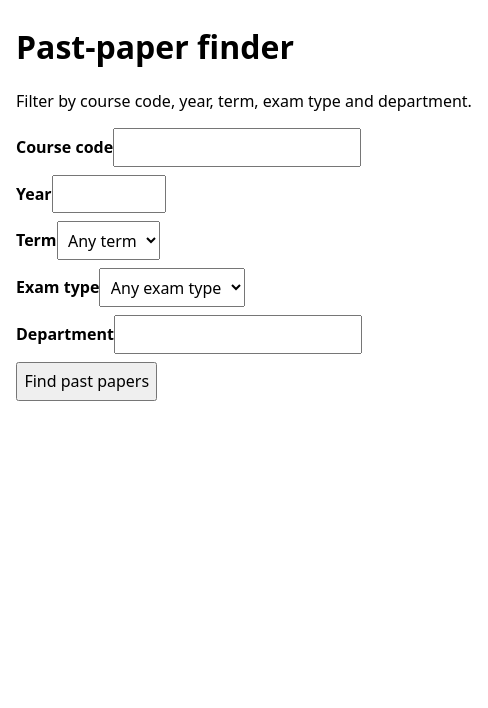
Test: PapersPage › turns every filter into the expected mock query, including an Urdu department
Step 1. Type "CS" into the field labelled "Course code" → [237, 147], box [113,128,361,167]
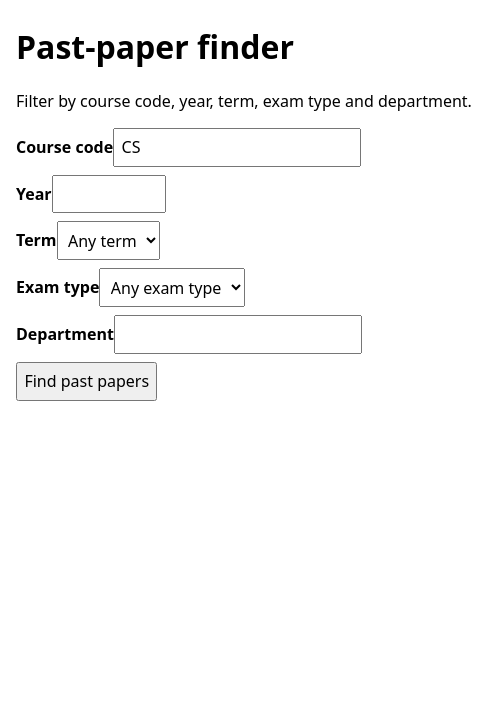
Step 2. Type "2024" into the number field labelled "Year" → [109, 194], box [52,175,166,214]
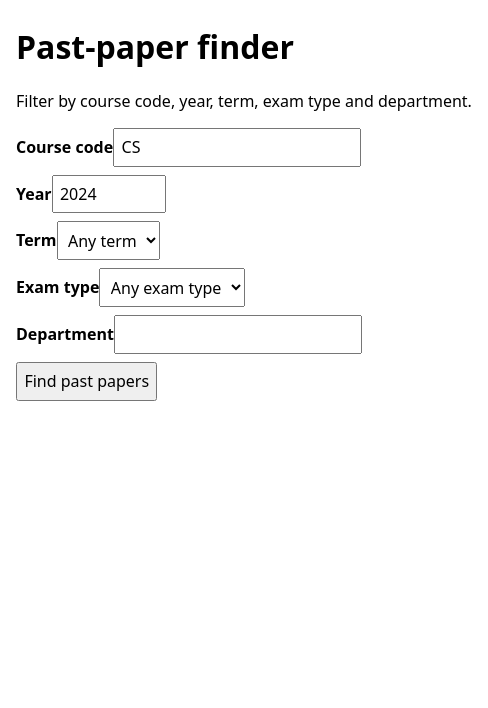
Step 3. Select "Fall" in the dropdown labelled "Term" → [108, 241], box [57,221,160,260]
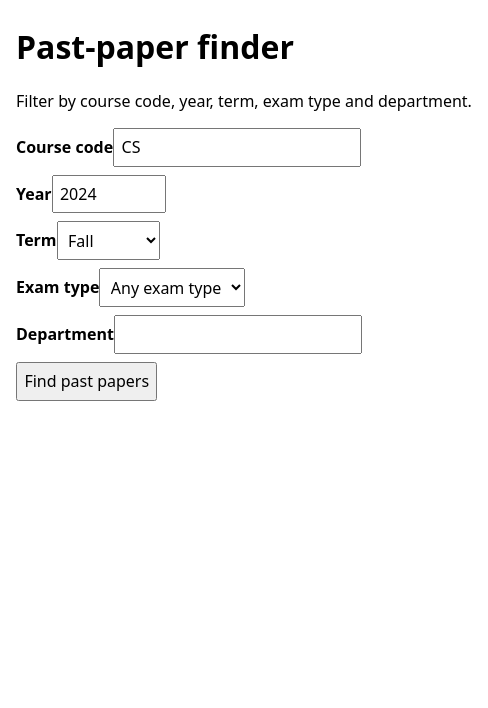
Step 4. Select "Final" in the dropdown labelled "Exam type" → [172, 288], box [99,268,245,307]
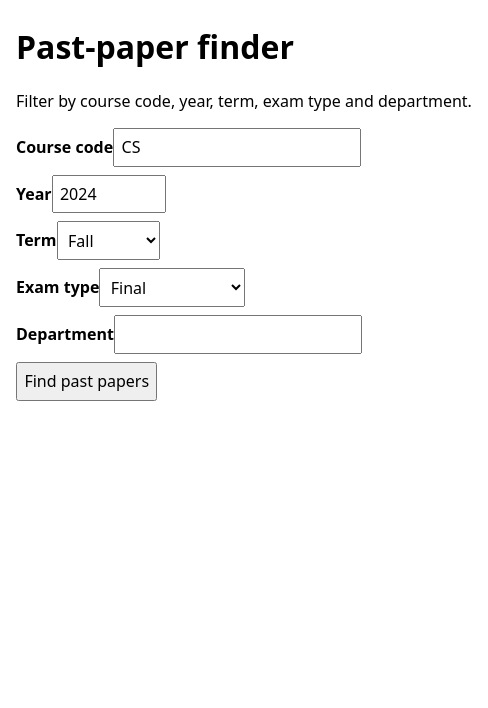
Step 5. Type "کمپیوٹر سائنس" into the field labelled "Department" → [238, 334], box [114,315,362,354]
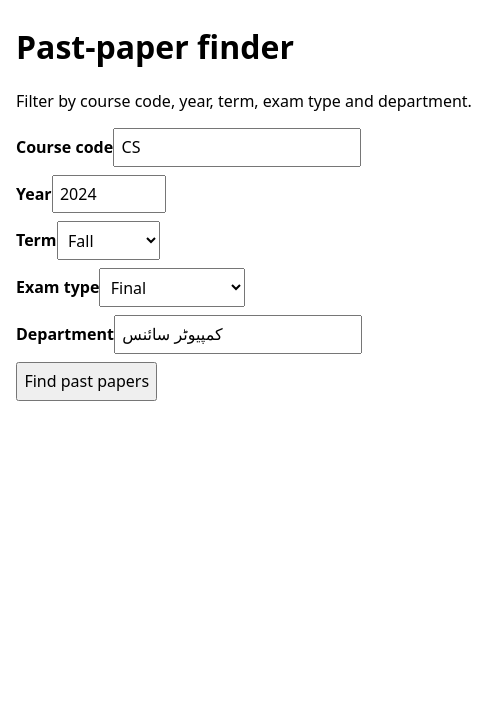
Step 6. Click the button "Find past papers" → [87, 381], box [16,362,158,401]
(page scrolled)
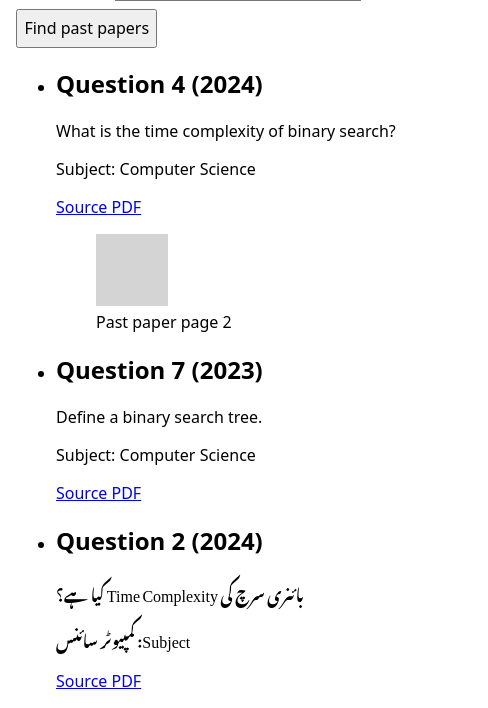
Expected: the list named "Past-paper results" is shown
